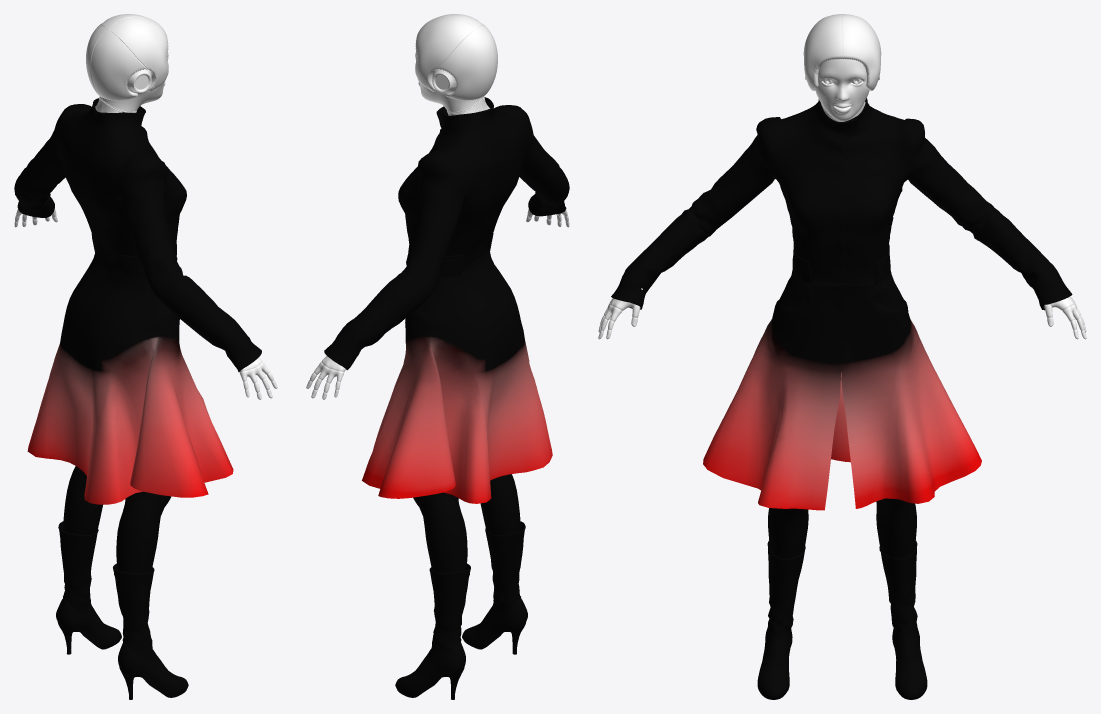
Rendered from Tereshkova.fbx.
3 renders of one model, left to right at view 1: azimuth 30°, elevation 25°; view 2: azimuth 150°, elevation 25°; view 3: azimuth 270°, elevation 25°, orthographic. The views are drawn at different scales.
Parts seen in each view (by area): view 1: SK_TereshkovaRobot.mo.001; view 2: SK_TereshkovaRobot.mo.001; view 3: SK_TereshkovaRobot.mo.001.
Boxes of the visible parts, x1,y1,x2,y2 form: SK_TereshkovaRobot.mo.001: (14,14,277,699); SK_TereshkovaRobot.mo.001: (306,14,569,699); SK_TereshkovaRobot.mo.001: (598,14,1086,699).
Bounding box in the file's own units: 38.71 × 178 × 118.
